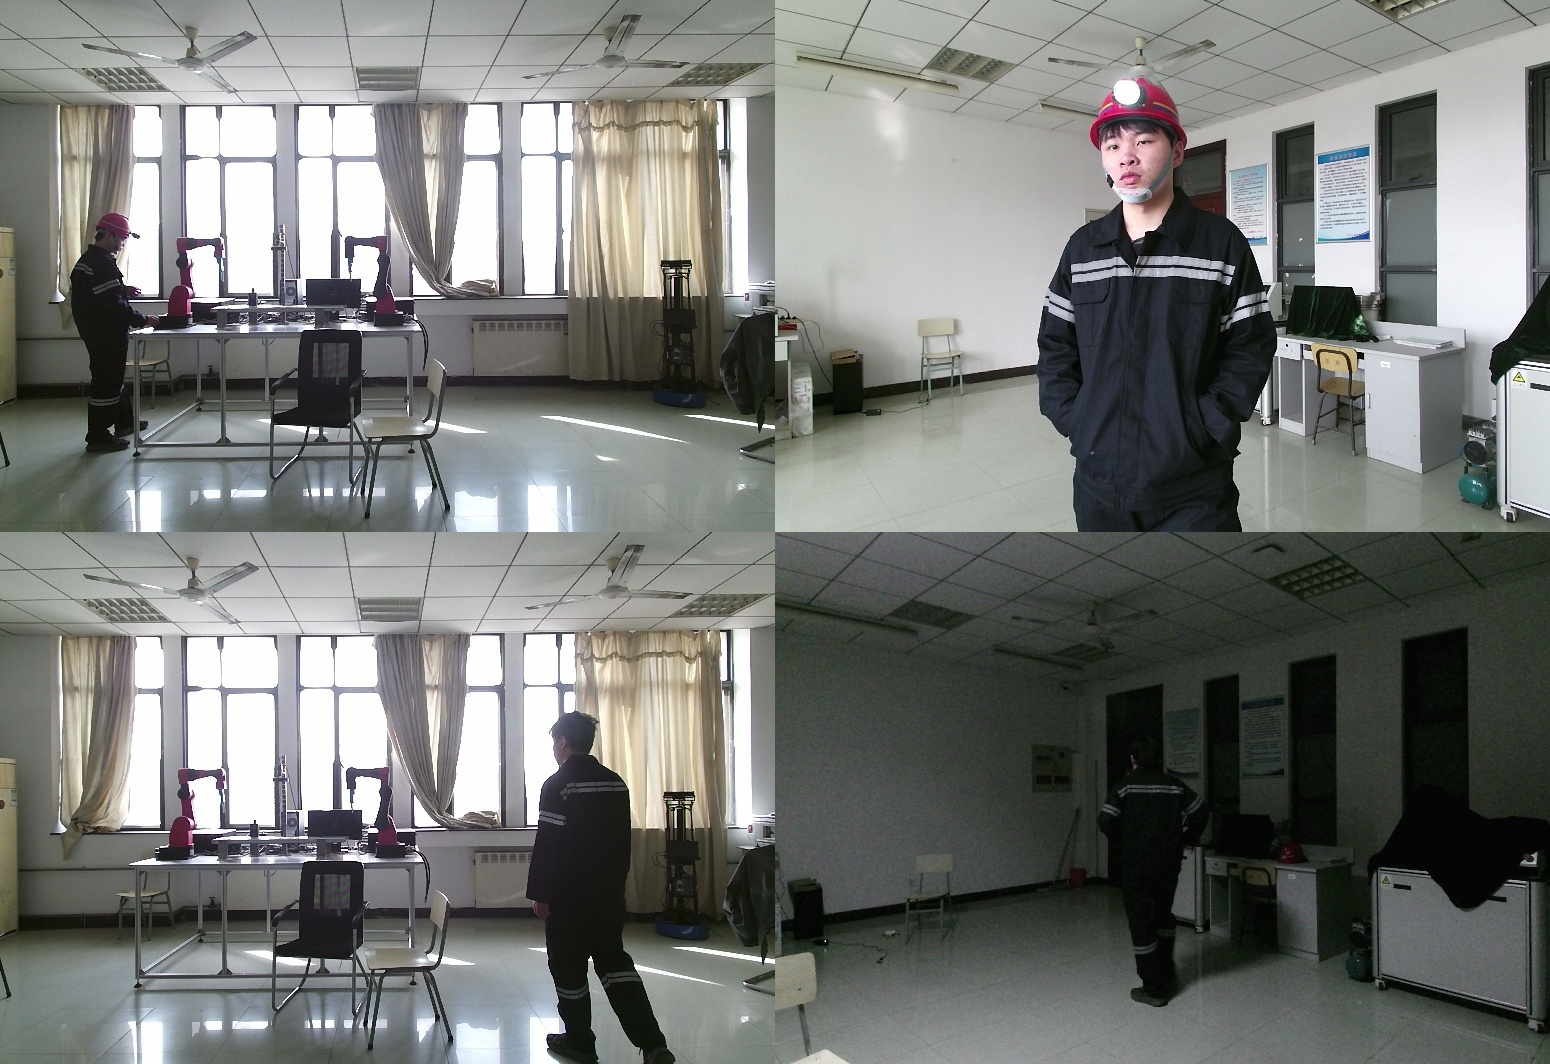person: (1039, 78, 1296, 532), (530, 710, 675, 1064), (1101, 737, 1227, 1004), (68, 215, 162, 457)
